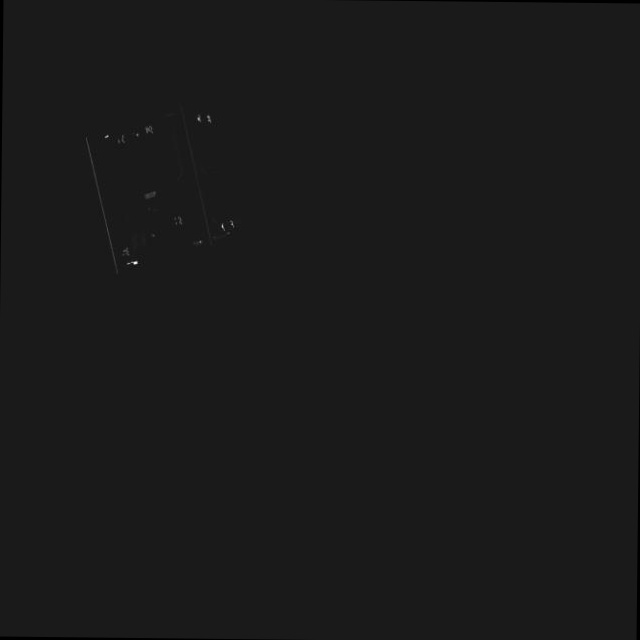satellite: (73, 87, 249, 284)
